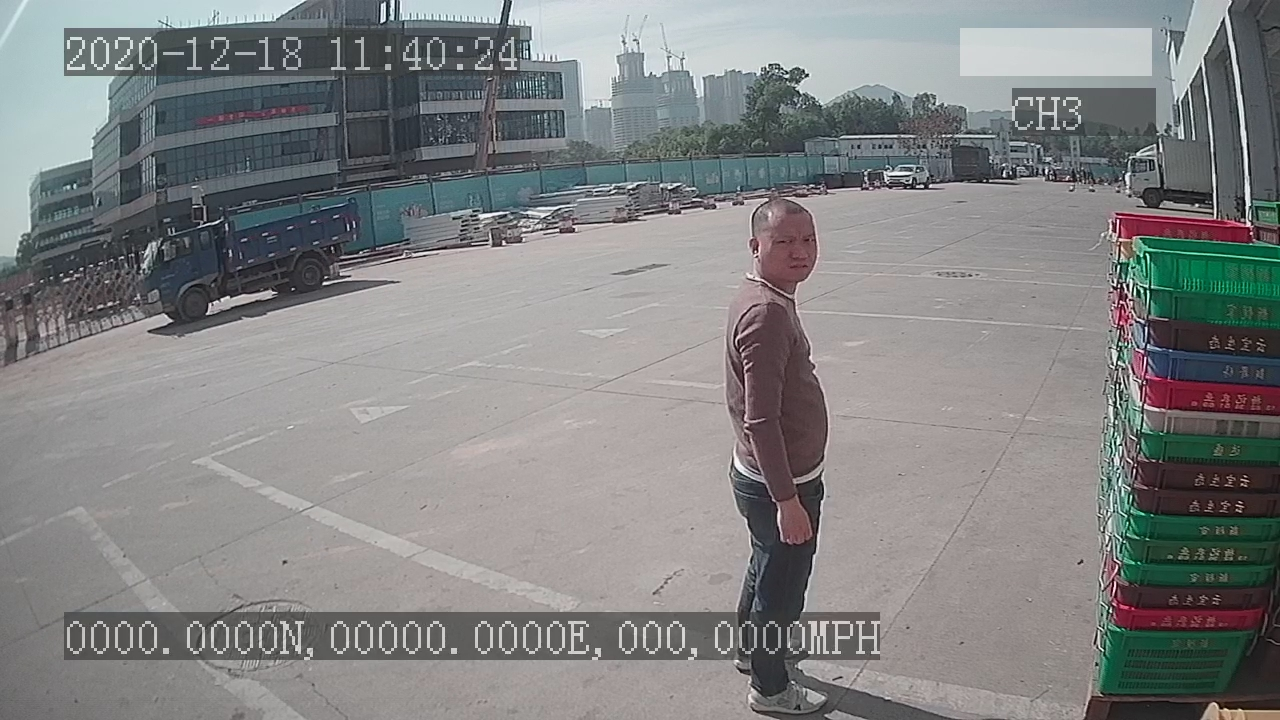person: (722, 193, 839, 545)
